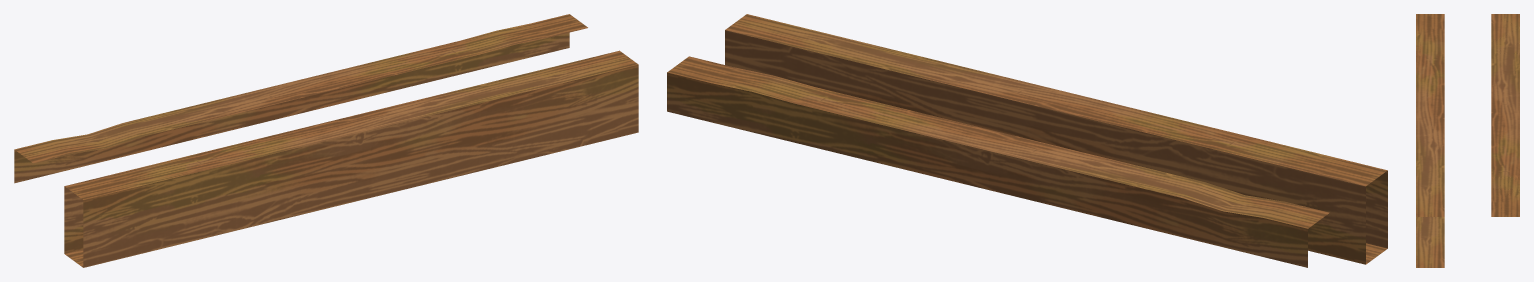
Rendered from Wall_BottomCover.obj.
3 renders of one model, left to right at view 1: azimuth 30°, elevation 25°; view 2: azimuth 150°, elevation 25°; view 3: azimuth 270°, elevation 25°, orthographic. The views are drawn at different scales.
Parts seen in each view (by area): view 1: Wall_BottomCover; view 2: Wall_BottomCover; view 3: Wall_BottomCover.
Boxes of the visible parts, x1,y1,x2,y2 form: Wall_BottomCover: [14, 14, 638, 267]; Wall_BottomCover: [667, 14, 1387, 267]; Wall_BottomCover: [1416, 14, 1519, 267].
Bounding box in the file's own units: 2 × 0.2375 × 0.4316.
